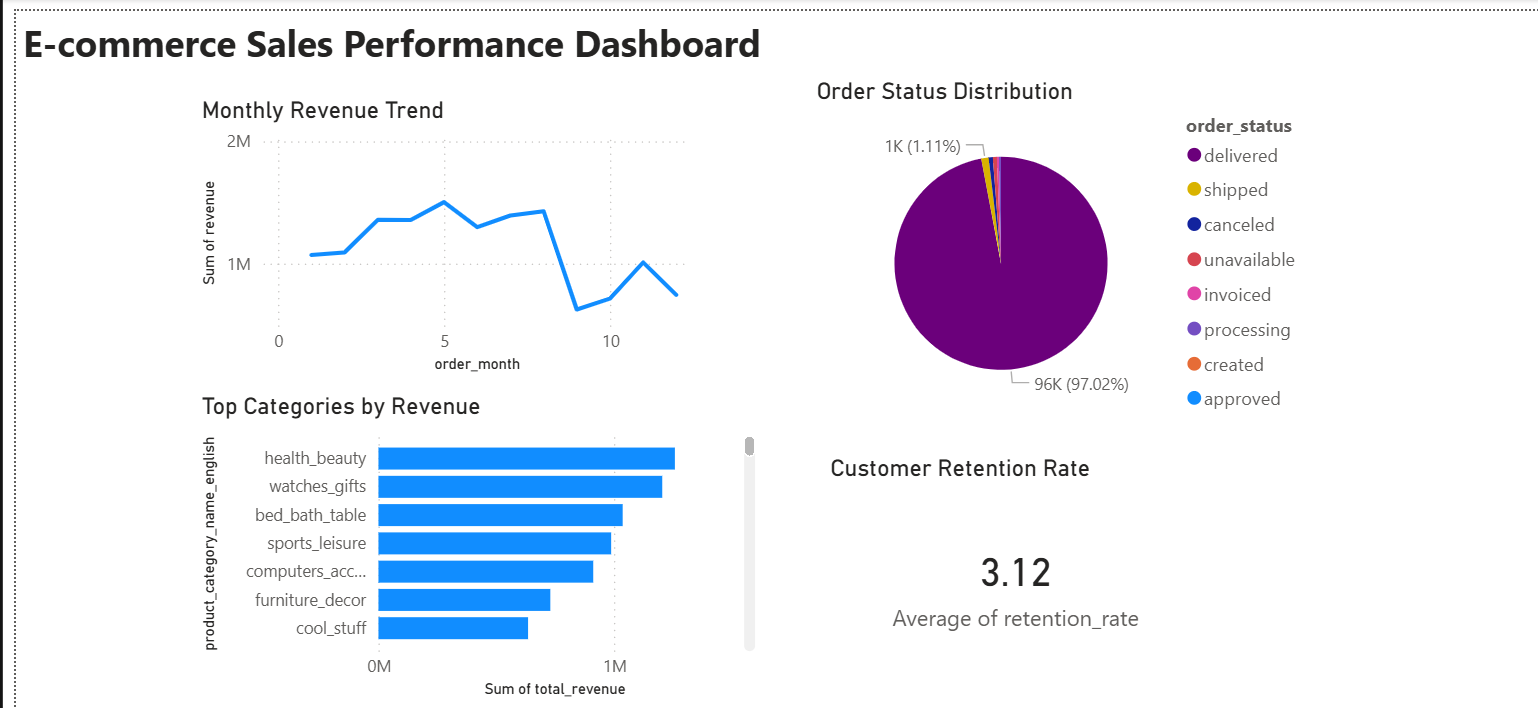

The page's visual inventory and layout, read from the dashboard file:
{"tool":"powerbi","page":{"name":"Page 1","canvas":[1280,720],"ordinal":0},"visuals":[{"type":"lineChart","title":"Monthly Revenue Trend","fields":{"Category":["monthly_sales.order_month"],"Y":["Sum(monthly_sales.revenue)"]},"box":[130,61.8,365.5,206.4],"z":0},{"type":"clusteredBarChart","title":"Top Categories by Revenue","fields":{"Category":["category_sales.product_category_name_english"],"Y":["Sum(category_sales.total_revenue)"]},"box":[130,277.3,412.7,227.3],"z":1000},{"type":"pieChart","title":"Order Status Distribution","fields":{"Category":["order_status.order_status"],"Y":["Sum(order_status.total_orders)"]},"box":[577.3,48.2,373.6,251.8],"z":2000},{"type":"card","title":"Customer Retention Rate","fields":{"Values":["Avg(retention_rate.retention_rate)"]},"box":[587.3,321.8,280,170.9],"z":2001},{"type":"textbox","box":[0,0,565.5,48.2],"z":2002}]}

Visuals, with their boxes on the page's 1280x720 design canvas (x1, y1, x2, y2). These are canvas units, not pixel positions in the 1538x708 screenshot, which may show the page scaled, cropped or inside an application window:
"Monthly Revenue Trend" lineChart: (x1=130, y1=62, x2=496, y2=268)
"Top Categories by Revenue" clusteredBarChart: (x1=130, y1=277, x2=543, y2=505)
"Order Status Distribution" pieChart: (x1=577, y1=48, x2=951, y2=300)
"Customer Retention Rate" card: (x1=587, y1=322, x2=867, y2=493)
textbox: (x1=0, y1=0, x2=566, y2=48)
